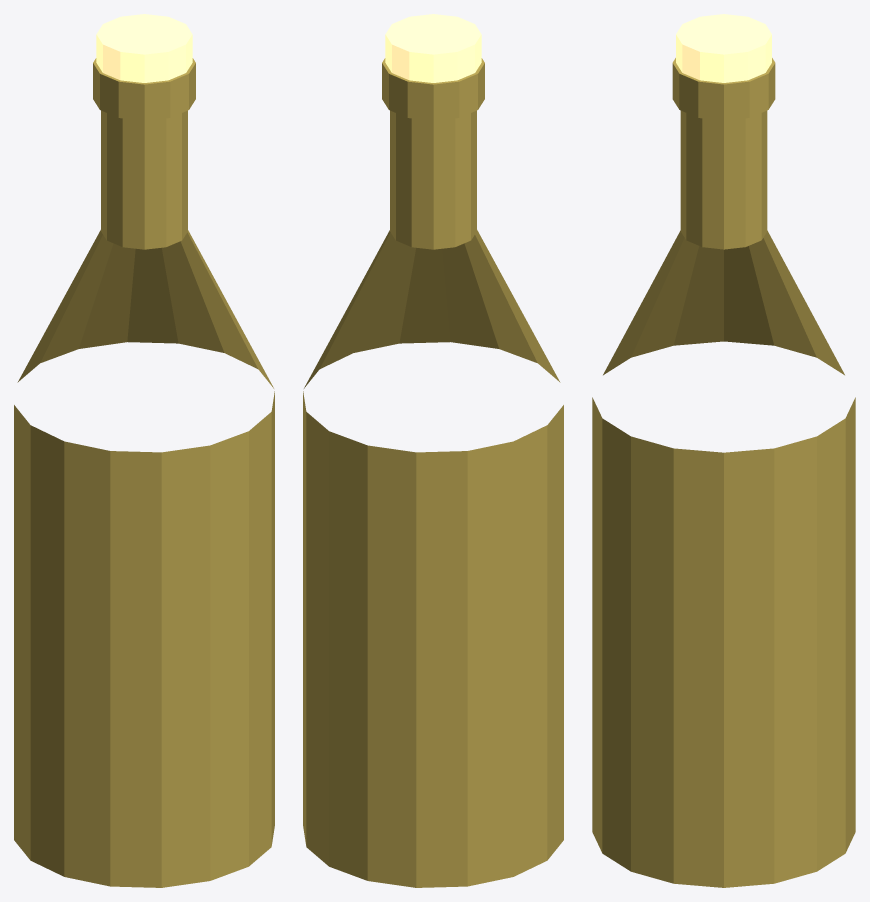
Rendered from bottle_gold.glb.
The picture shows the model from 3 angles, left to right: view 1: azimuth 30°, elevation 25°; view 2: azimuth 150°, elevation 25°; view 3: azimuth 270°, elevation 25°; orthographic projection.
Parts seen in each view (by area): view 1: glass, cap; view 2: glass, cap; view 3: glass, cap.
Boxes of the visible parts, bbox=[...] form: glass: bbox=[14, 58, 274, 887]; cap: bbox=[96, 14, 192, 82]; glass: bbox=[303, 58, 563, 887]; cap: bbox=[385, 14, 481, 82]; glass: bbox=[592, 58, 855, 887]; cap: bbox=[676, 14, 771, 82].
Bounding box in the file's own units: 0.23 × 0.77 × 0.23.
